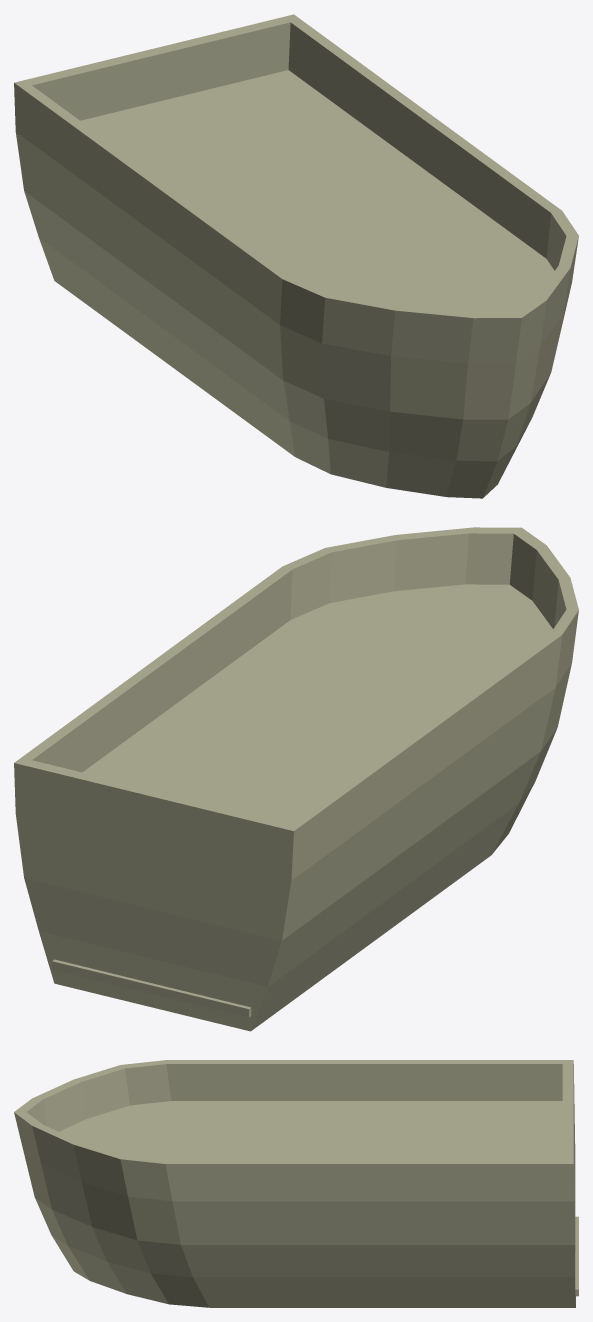
Rendered from boat floors.fbx.
The picture shows the model from 3 angles, top to bottom: view 1: azimuth 30°, elevation 25°; view 2: azimuth 150°, elevation 25°; view 3: azimuth 270°, elevation 25°; orthographic projection. The views are drawn at different scales.
Parts seen in each view (by area): view 1: Plane, floor 1.001, floor 1; view 2: Plane, floor 1.001, floor 1, Plane.002; view 3: Plane, floor 1.001, floor 1.
Part boxes in pixels (bbox=[...]): Plane: bbox=[14, 14, 578, 498]; floor 1.001: bbox=[80, 70, 554, 312]; floor 1: bbox=[81, 70, 545, 311]; Plane: bbox=[14, 527, 578, 1031]; floor 1.001: bbox=[82, 584, 552, 822]; floor 1: bbox=[84, 591, 552, 823]; Plane.002: bbox=[52, 959, 251, 1017]; Plane: bbox=[14, 1060, 575, 1307]; floor 1.001: bbox=[59, 1101, 562, 1159]; floor 1: bbox=[87, 1101, 562, 1159].
Size of the model in its own units: 271 by 194 by 622.
